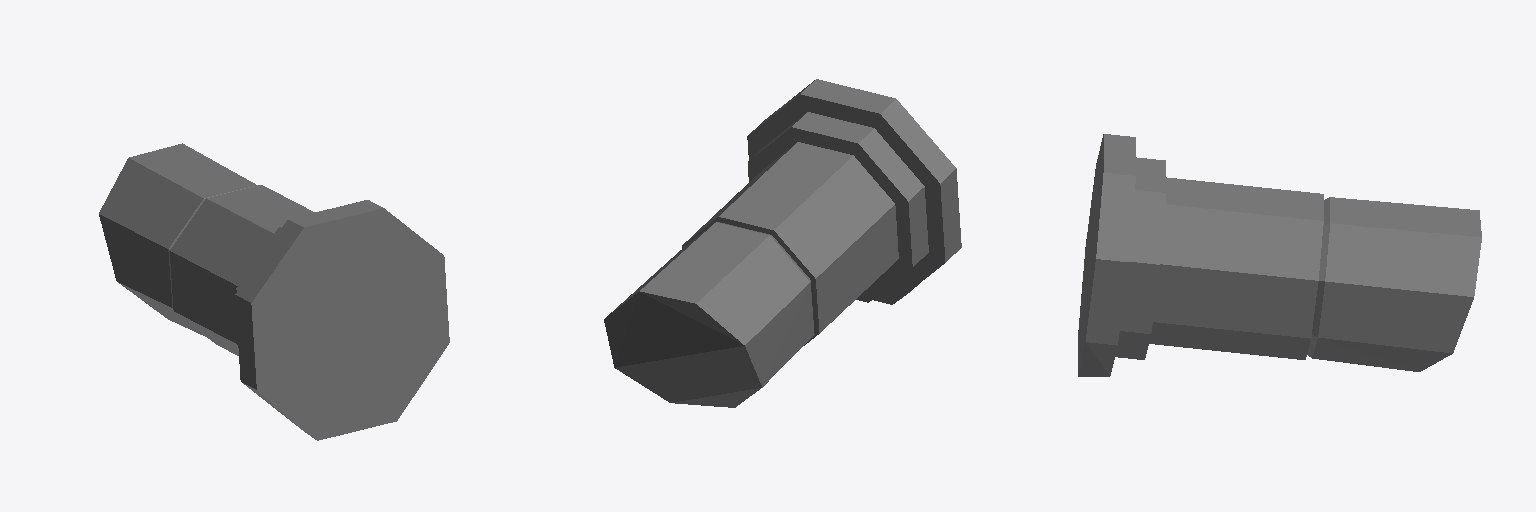
Rendered from ColumnBroken.obj.
3 views of the same model, side by side, from view 1: azimuth 30°, elevation 25°; view 2: azimuth 150°, elevation 25°; view 3: azimuth 270°, elevation 25° (orthographic).
Visible parts, largest first — view 1: ColumnBroken_Cylinder.008; view 2: ColumnBroken_Cylinder.008; view 3: ColumnBroken_Cylinder.008.
Boxes of the visible parts, x1=… form: ColumnBroken_Cylinder.008: x1=99, y1=143, x2=449, y2=440; ColumnBroken_Cylinder.008: x1=604, y1=79, x2=961, y2=407; ColumnBroken_Cylinder.008: x1=1078, y1=134, x2=1481, y2=376.
Bounding box in the file's own units: 1.36 × 1.39 × 2.47.